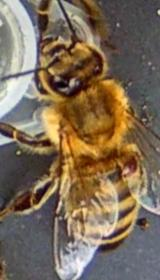varroa_mite: (110, 148, 150, 183)
